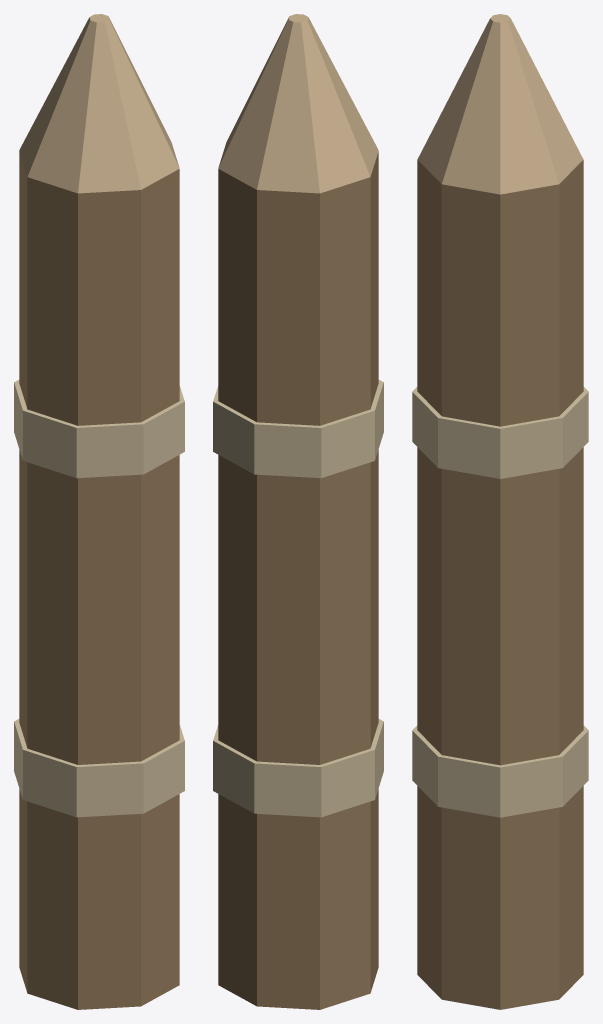
Rendered from wall_palisade_post.glb.
The picture shows the model from 3 angles, left to right: view 1: azimuth 30°, elevation 25°; view 2: azimuth 150°, elevation 25°; view 3: azimuth 270°, elevation 25°; orthographic projection.
Visible parts, largest first — view 1: Post, Post.Tip, Post.Band, Post.Band#2; view 2: Post, Post.Tip, Post.Band, Post.Band#2; view 3: Post, Post.Tip, Post.Band, Post.Band#2.
Boxes of the visible parts, x1,y1,x2,y2 form: Post: [19, 152, 179, 1009]; Post.Tip: [19, 14, 179, 193]; Post.Band: [14, 380, 184, 478]; Post.Band#2: [14, 719, 184, 817]; Post: [218, 152, 378, 1009]; Post.Tip: [218, 14, 378, 193]; Post.Band: [213, 380, 383, 478]; Post.Band#2: [213, 719, 383, 817]; Post: [417, 160, 583, 1009]; Post.Tip: [417, 14, 583, 194]; Post.Band: [412, 387, 588, 478]; Post.Band#2: [412, 725, 588, 817].
Bounding box in the file's own units: 0.51 × 3.05 × 0.51.
